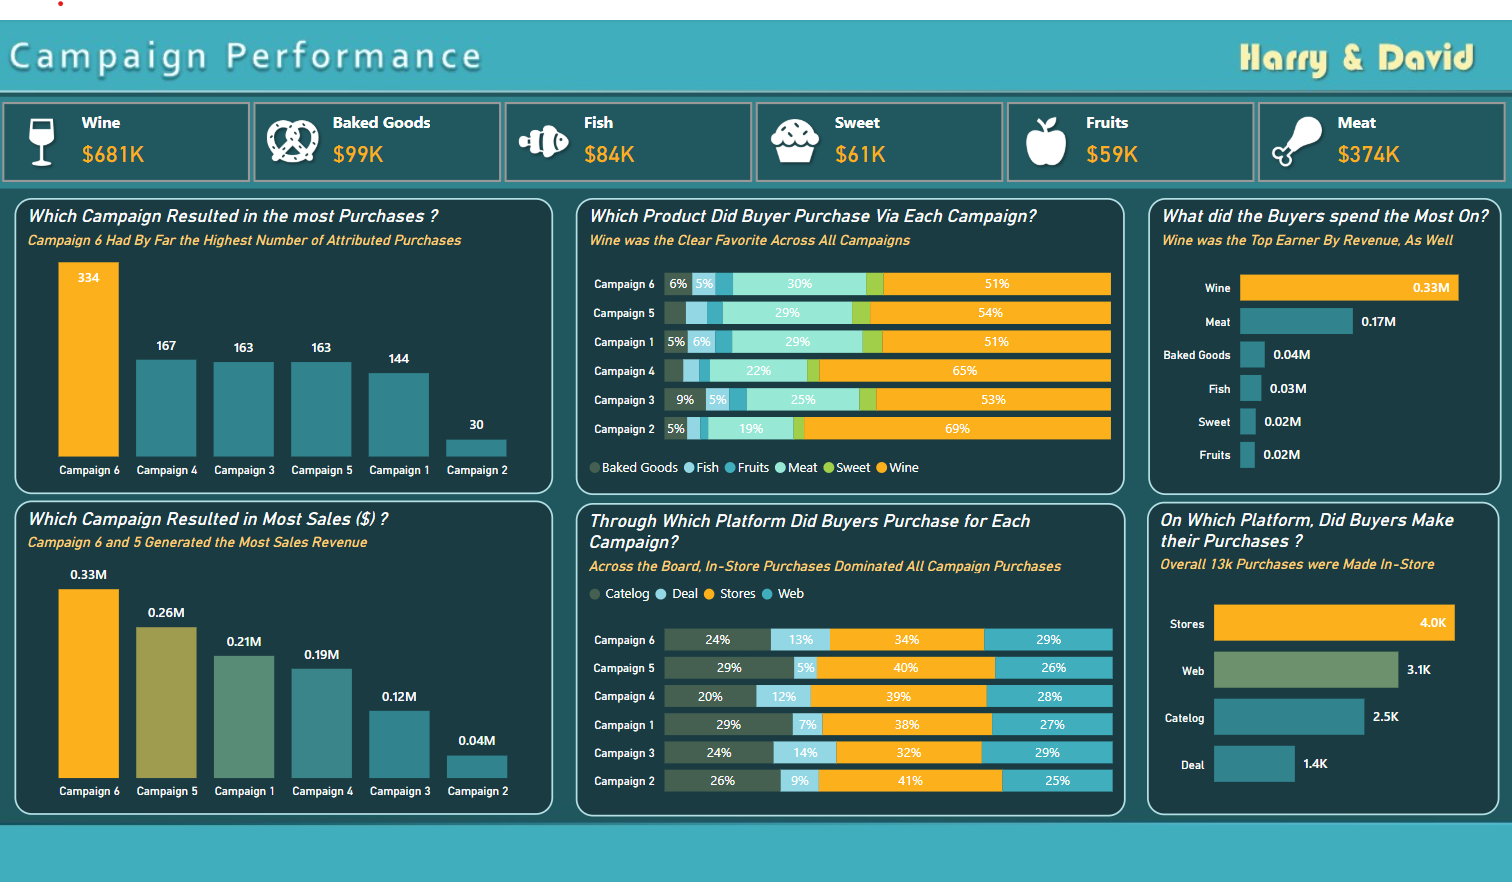

This screenshot's page, from the dashboard's own definition file:
{"tool":"powerbi","page":{"name":"Campaign Performance","canvas":[1400,800],"ordinal":0},"visuals":[{"type":"clusteredColumnChart","title":"Which Campaign Resulted in the most Purchases ?","fields":{"Category":["Campaign.Campaign"],"Y":["Campaign.Accepted_Ind"]},"box":[15.9,165.9,497.6,273.4],"z":0},{"type":"clusteredColumnChart","title":"Which Campaign Resulted in Most Sales ($) ?","fields":{"Y":["Products.Total Sales"],"Category":["Campaign.Campaign"]},"box":[15.9,445.9,497.6,290.6],"z":1000},{"type":"hundredPercentStackedBarChart","title":"Which Product Did Buyer Purchase Via Each Campaign?","fields":{"Category":["Campaign.Campaign"],"Y":["Products.Total Sales"],"Series":["Products.Product"]},"box":[534.8,165.9,506.9,274.7],"z":2000},{"type":"clusteredBarChart","title":"What did the Buyers spend the Most On?","fields":{"Category":["Products.Product"],"Y":["Products.Total Sales"]},"box":[1062.9,165.9,326.4,274.7],"z":3000},{"type":"hundredPercentStackedBarChart","title":"Through Which Platform Did Buyers Purchase for Each Campaign?","fields":{"Category":["Campaign.Campaign"],"Y":["Platform.Qty"],"Series":["Platform.Platform"]},"box":[534.6,448,508.1,289.8],"z":4000},{"type":"clusteredBarChart","title":"On Which Platform, Did Buyers Make their Purchases ?","fields":{"Category":["Platform.Platform"],"Y":["Platform.Qty"]},"box":[1062.4,446.9,325.6,289.8],"z":5000},{"type":"cardVisual","fields":{"Data":["marketmindz_research_data.Amount_Wine_Products","marketmindz_research_data.Amount_Baked_Products","marketmindz_research_data.Amount_Fish_Products","marketmindz_research_data.Amount_Sweet_Products","marketmindz_research_data.Amount_Fruits_Products","marketmindz_research_data.Amount_Meat_Products"]},"box":[0,73,1400,84.9],"z":6000}]}

Visuals, with their boxes in screenshot pixels (x1, y1, x2, y2), scaled from the page's 1400x800 canvas onto the 1512x882 screenshot:
"Which Campaign Resulted in the most Purchases ?" clusteredColumnChart: Rect(17, 183, 555, 484)
"Which Campaign Resulted in Most Sales ($) ?" clusteredColumnChart: Rect(17, 492, 555, 812)
"Which Product Did Buyer Purchase Via Each Campaign?" hundredPercentStackedBarChart: Rect(578, 183, 1125, 486)
"What did the Buyers spend the Most On?" clusteredBarChart: Rect(1148, 183, 1500, 486)
"Through Which Platform Did Buyers Purchase for Each Campaign?" hundredPercentStackedBarChart: Rect(577, 494, 1126, 813)
"On Which Platform, Did Buyers Make their Purchases ?" clusteredBarChart: Rect(1147, 493, 1499, 812)
cardVisual - marketmindz_research_data.Amount_Wine_Products x marketmindz_research_data.Amount_Baked_Products: Rect(0, 80, 1511, 174)
